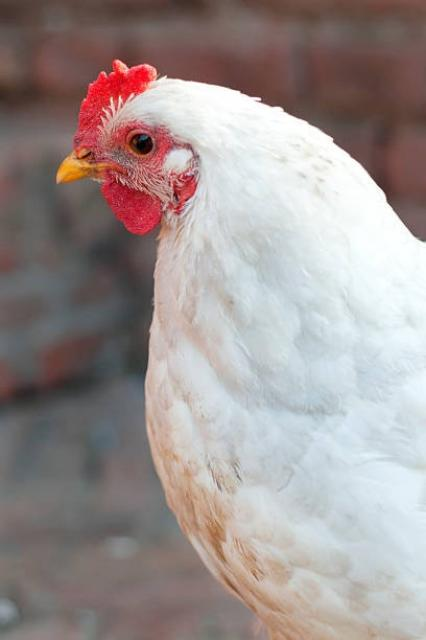Chicken: (55, 54, 426, 640)
